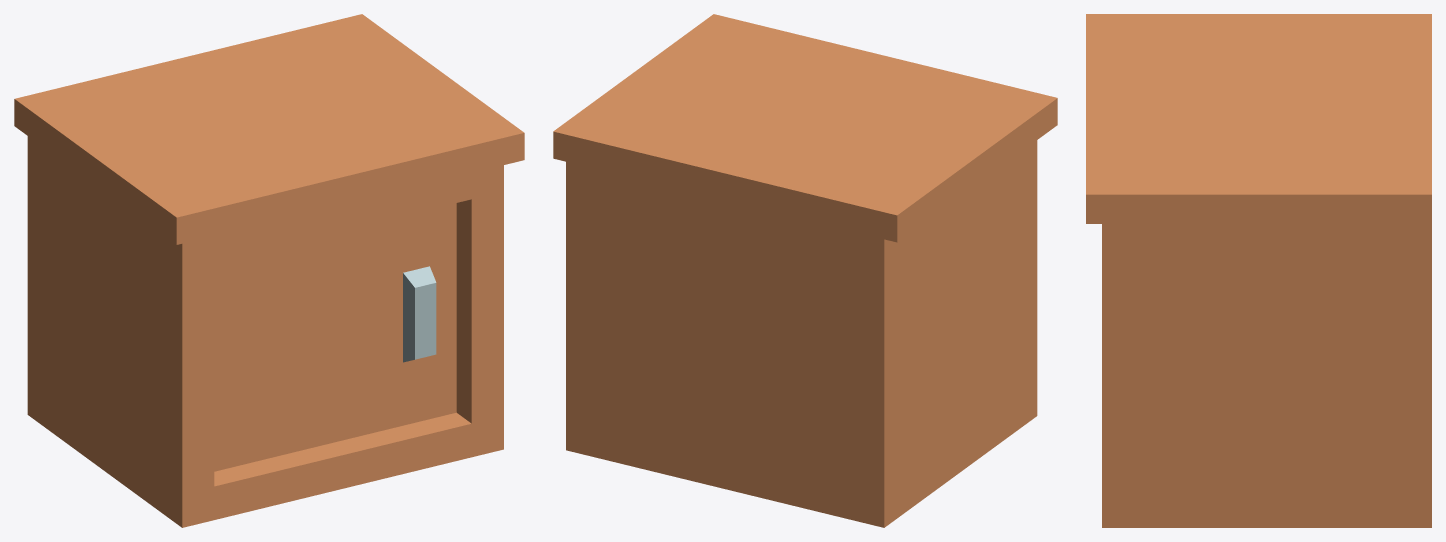
Rendered from Cabinet Bed.glb.
3 views of the same model, side by side, from view 1: azimuth 30°, elevation 25°; view 2: azimuth 150°, elevation 25°; view 3: azimuth 270°, elevation 25° (orthographic). The views are drawn at different scales.
Parts seen in each view (by area): view 1: cabinetBed(Clone), door; view 2: cabinetBed(Clone); view 3: cabinetBed(Clone).
Boxes of the visible parts, x1=… form: cabinetBed(Clone): x1=14, y1=14, x2=524, y2=527; door: x1=214, y1=203, x2=456, y2=471; cabinetBed(Clone): x1=553, y1=14, x2=1057, y2=527; cabinetBed(Clone): x1=1086, y1=14, x2=1431, y2=527.
Size of the model in its own units: 0.266 by 0.2332 by 0.215.
